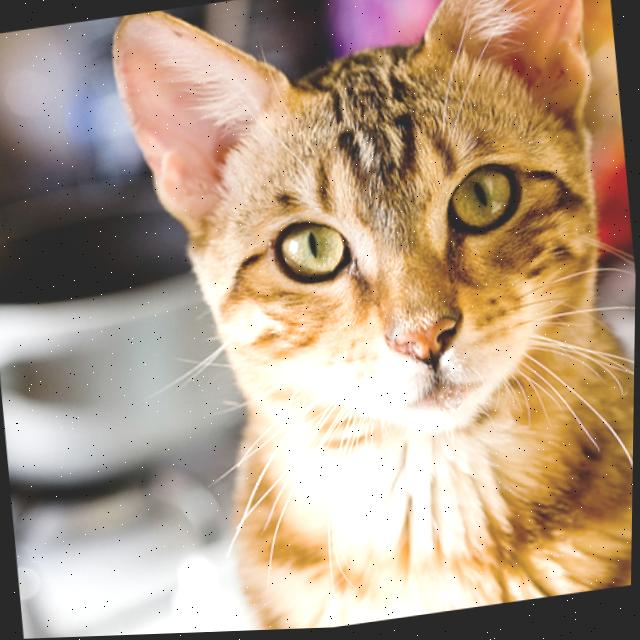Bengal: (98, 0, 640, 637)
